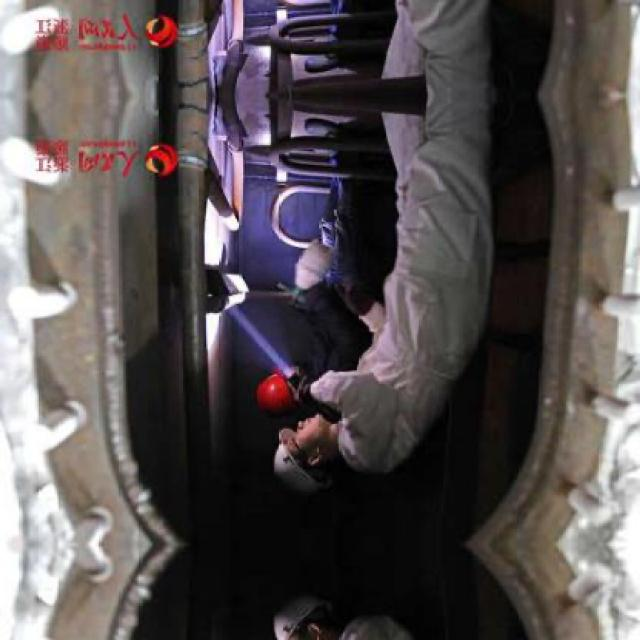con casco: (279, 397, 366, 514)
